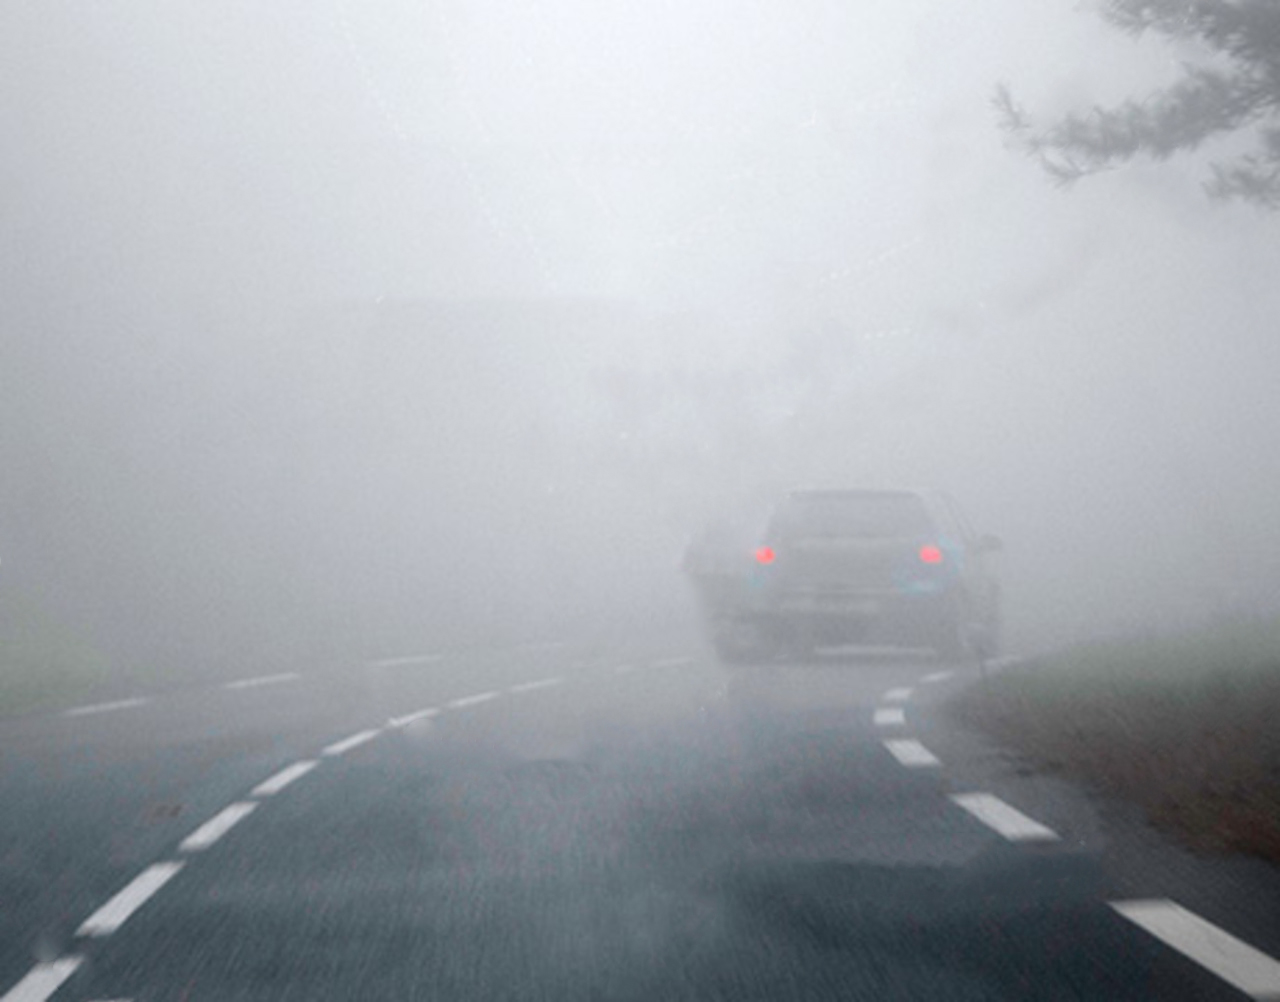car: (758, 482, 1005, 663)
